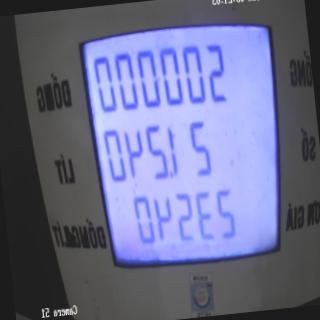screen: (72, 0, 300, 290)
